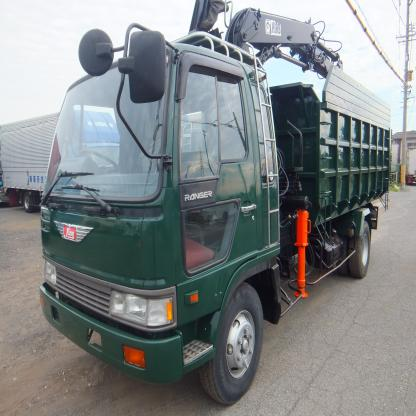dump_truck: (21, 1, 398, 403)
